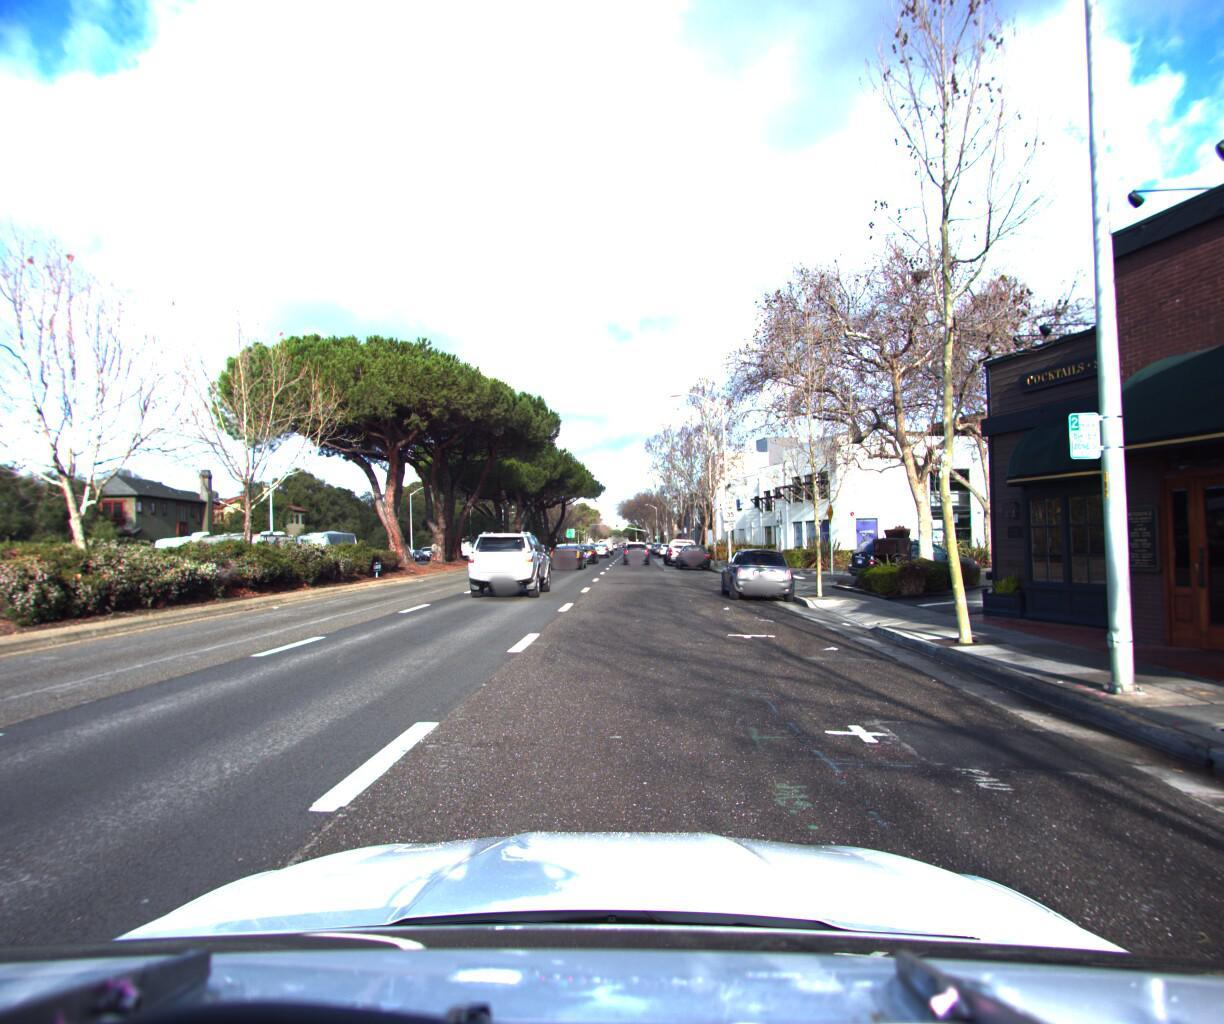car: (840, 525, 990, 584), (462, 524, 557, 596), (716, 537, 797, 599), (662, 530, 700, 560), (672, 535, 712, 563), (547, 539, 588, 566), (620, 534, 648, 558), (571, 540, 600, 561), (590, 533, 613, 550)
other_vehicle: (142, 523, 262, 579), (220, 523, 309, 571), (293, 523, 361, 566)
